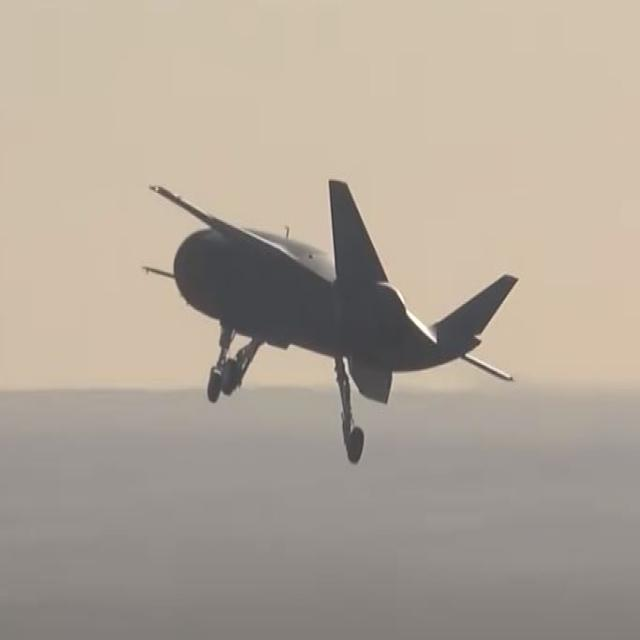iha: (133, 170, 515, 466)
